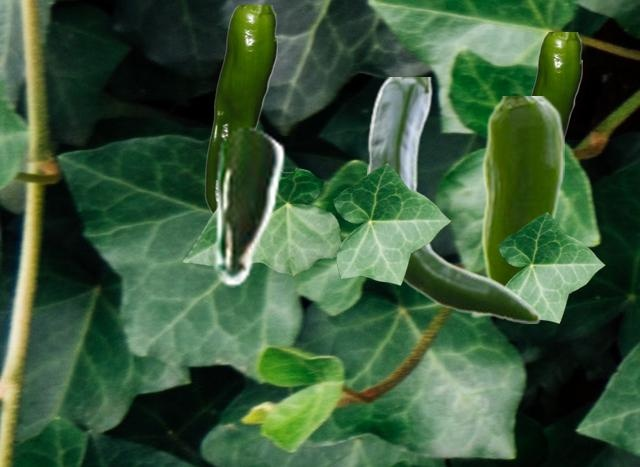green_chili: (367, 77, 540, 322), (469, 96, 563, 318), (204, 5, 276, 213), (209, 125, 285, 286), (530, 32, 581, 140)
